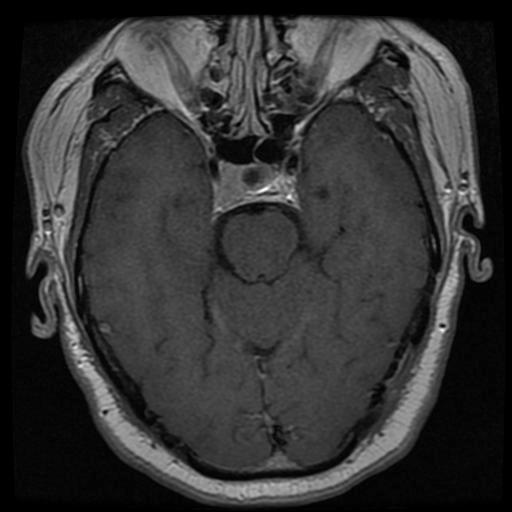Tumour-Pituitary: (195, 149, 313, 226)
